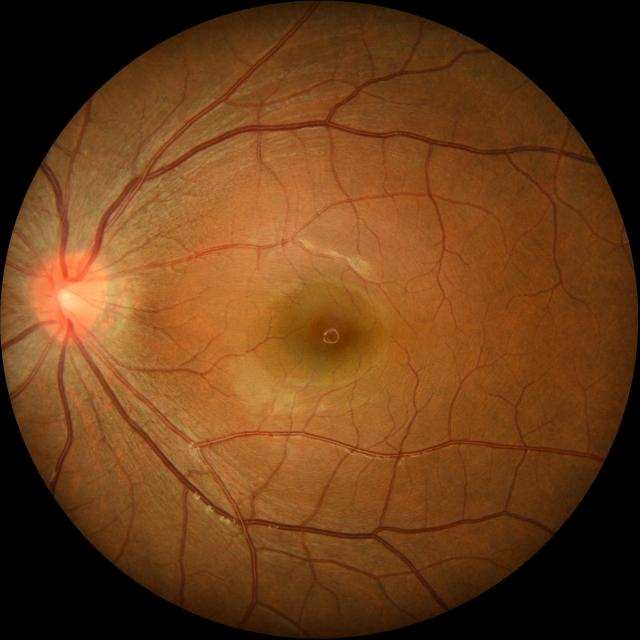OC: (55, 283, 85, 315)
OD: (34, 252, 106, 338)
